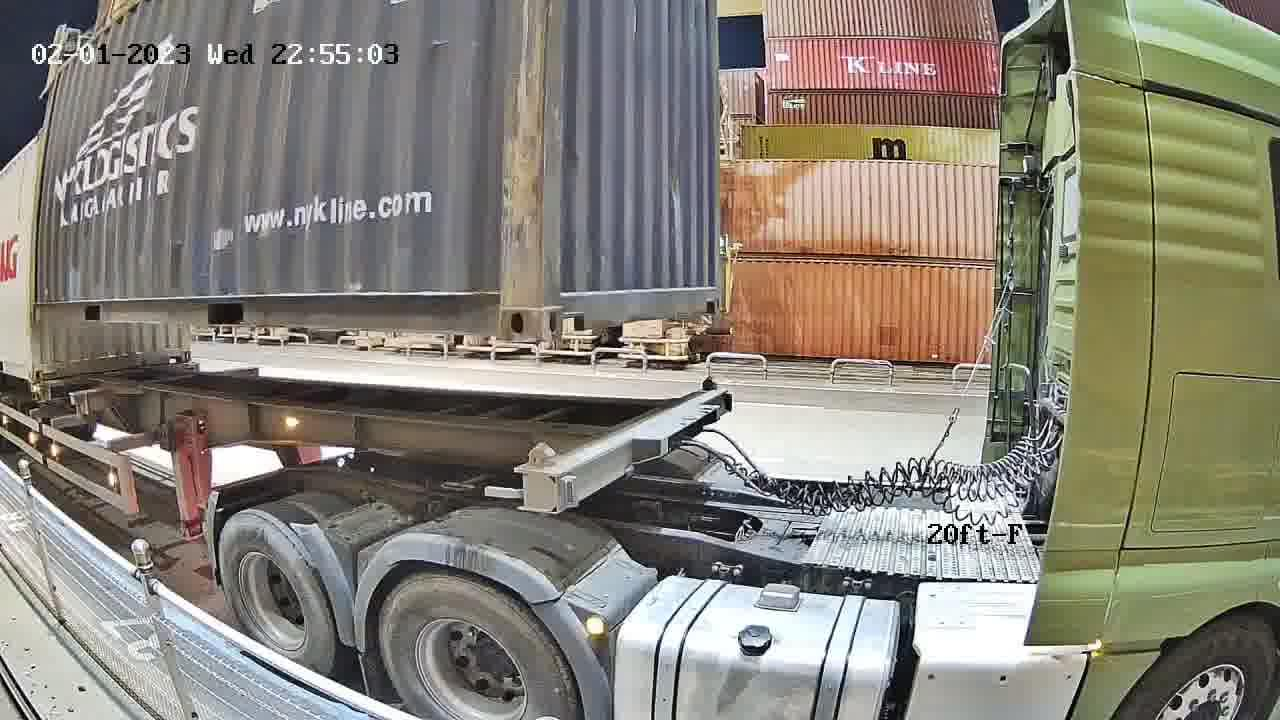Chassis: (518, 388, 727, 510)
Cone: (522, 443, 559, 512), (698, 375, 718, 391)
Hole_L: (543, 269, 597, 340)
Hole_R: (458, 267, 544, 343), (700, 276, 722, 314)
Tire: (379, 573, 572, 719), (220, 512, 337, 677)
